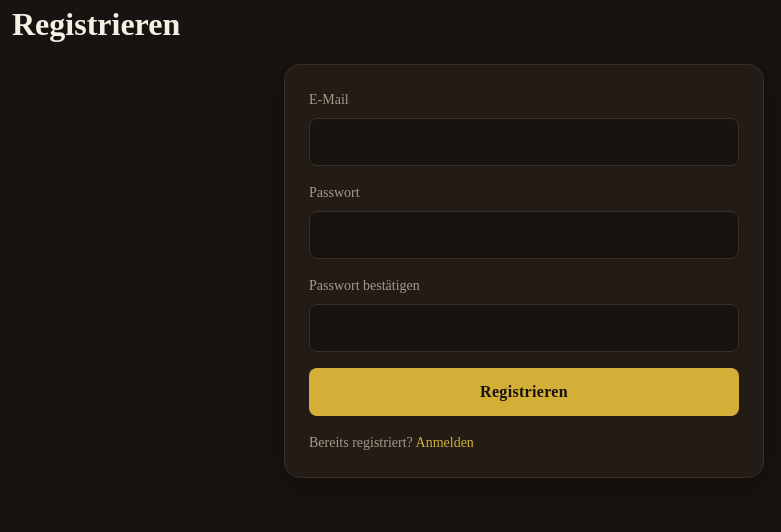
it: RegisterPage › shows an error when the passwords do not match
Type "holly@example.com" into the field labelled "E-Mail" at (524, 142), box [309, 118, 739, 166]
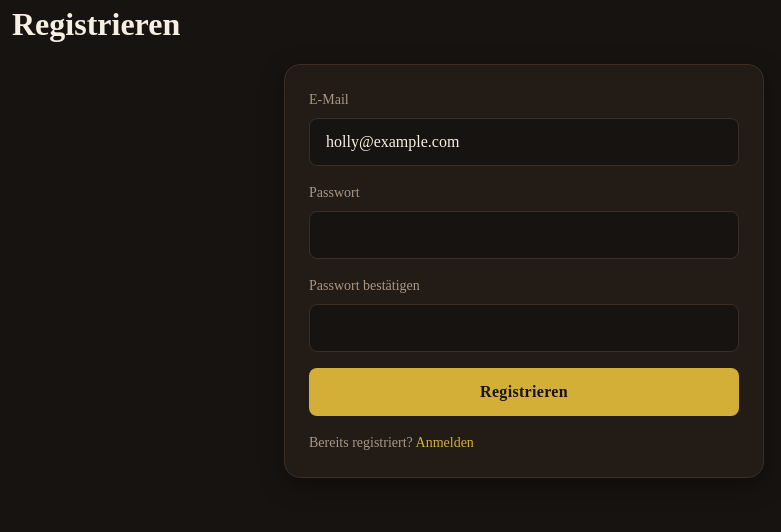
Type "geheim123" into the password field labelled "Passwort" at (524, 235), box [309, 211, 739, 259]
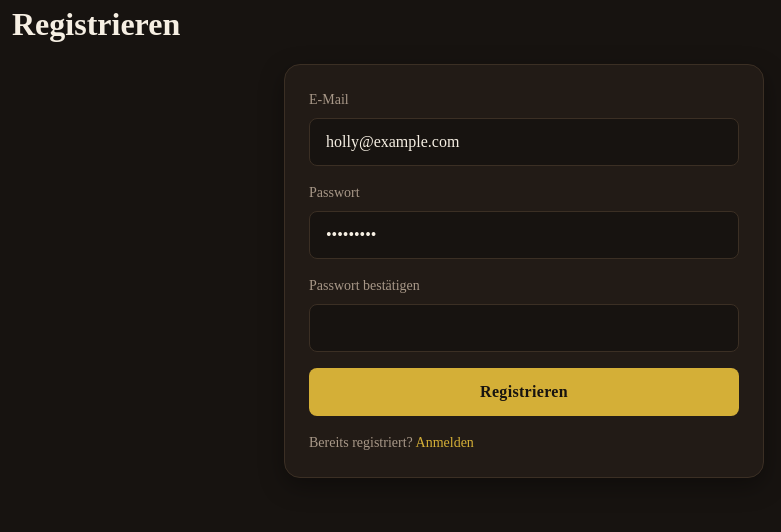
Type "anders" into the password field labelled "Passwort bestätigen" at (524, 328), box [309, 304, 739, 352]
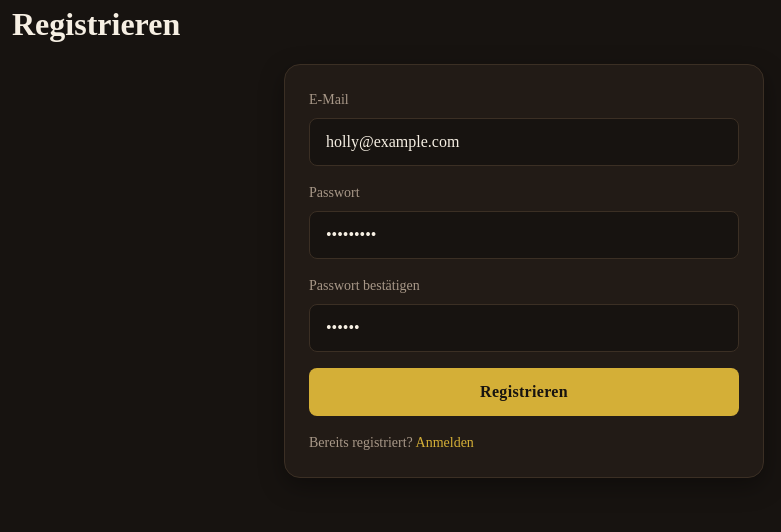
Click the button "Registrieren" at (524, 392), box [309, 368, 739, 416]
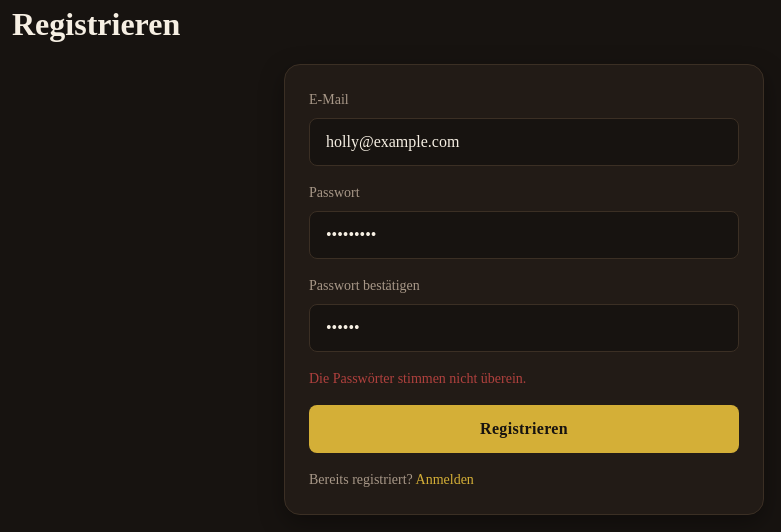
Expected: the message reads "Die Passwörter stimmen nicht überein.", [309, 371, 526, 386]
